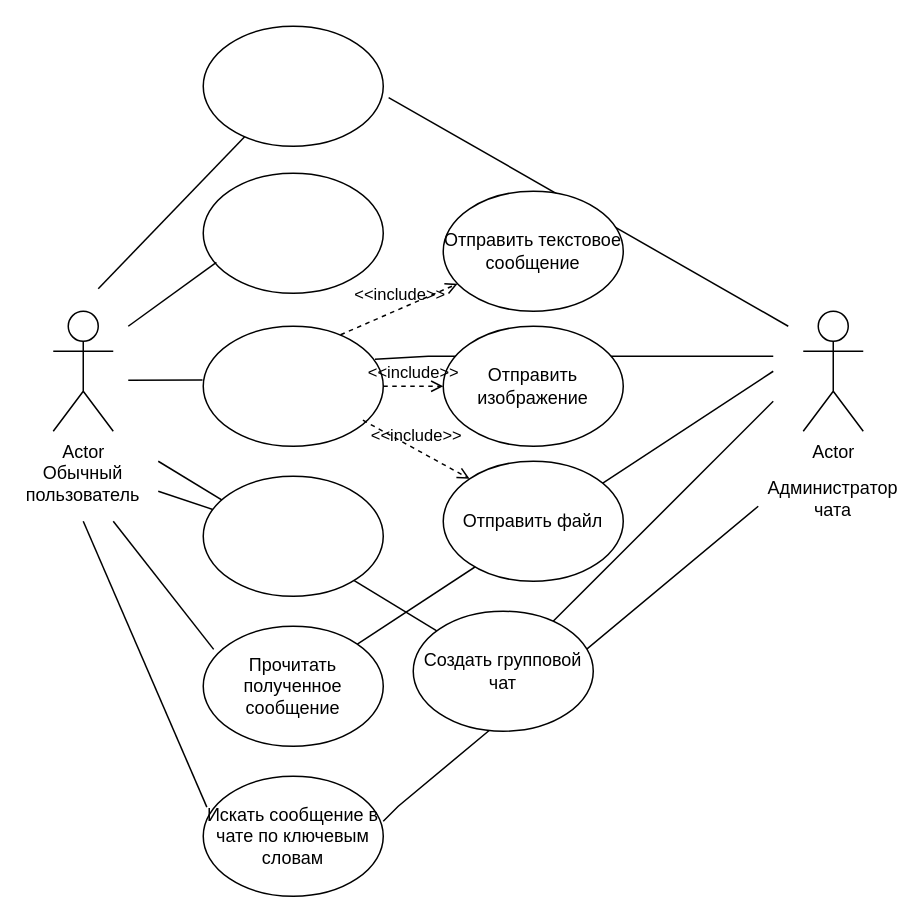
The diagram is 924 pixels wide and 923 high, and some of its shapes have lost their labels. The shapes that lost their labels are listed below. From the top down, each one's centre as x and y in pixels, then its label:
At (x=292, y=85): "Удалить сообщение".
At (x=292, y=232): "Изменить свой профиль (аватар, био)".
At (x=292, y=385): "Отправить сообщение".
At (x=292, y=535): "Найти другого пользователя".
